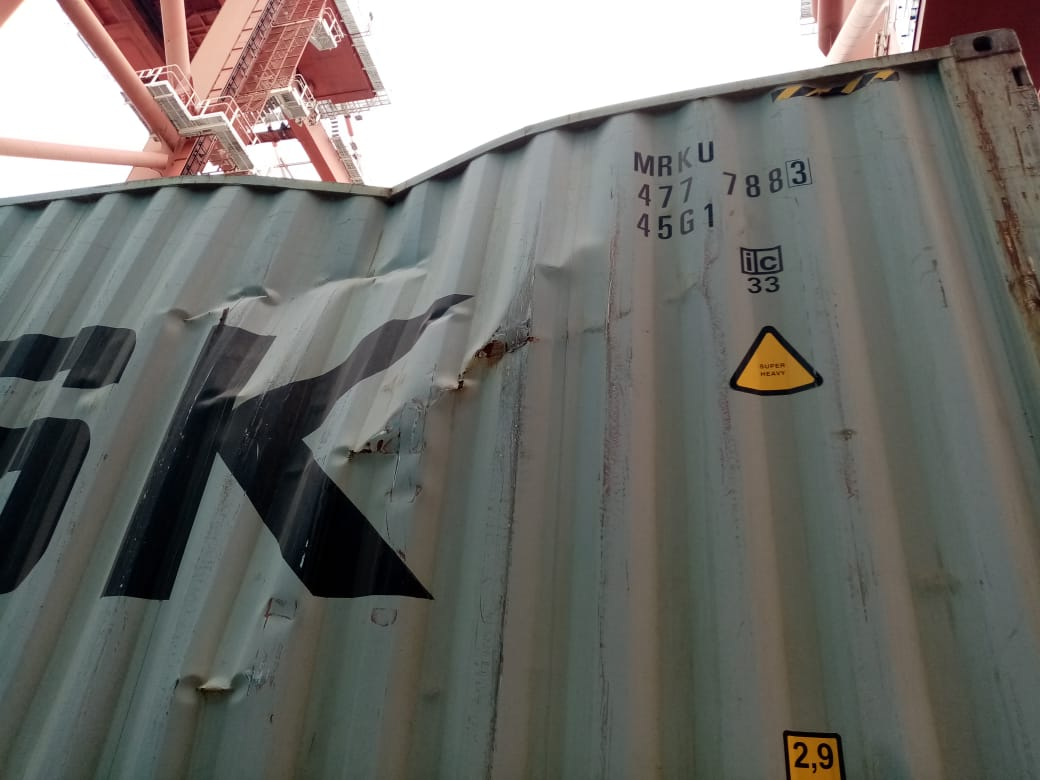dented: (149, 240, 614, 501), (156, 662, 303, 727)
